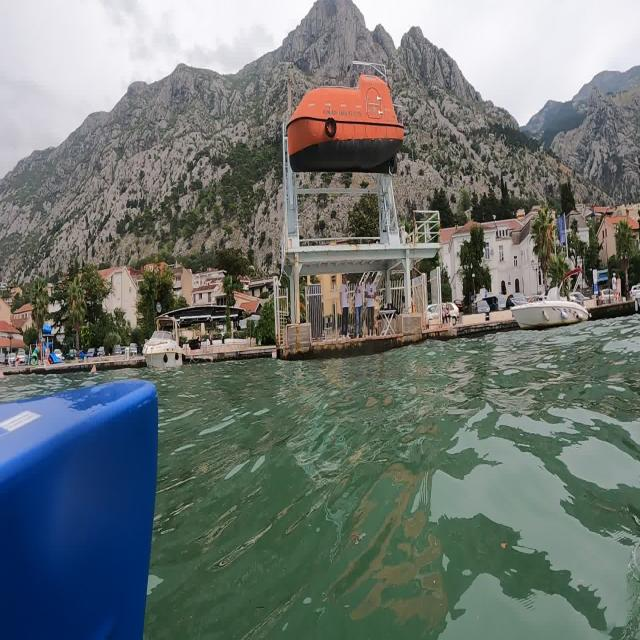boat: (141, 311, 190, 370)
buoy: (508, 264, 592, 336)
